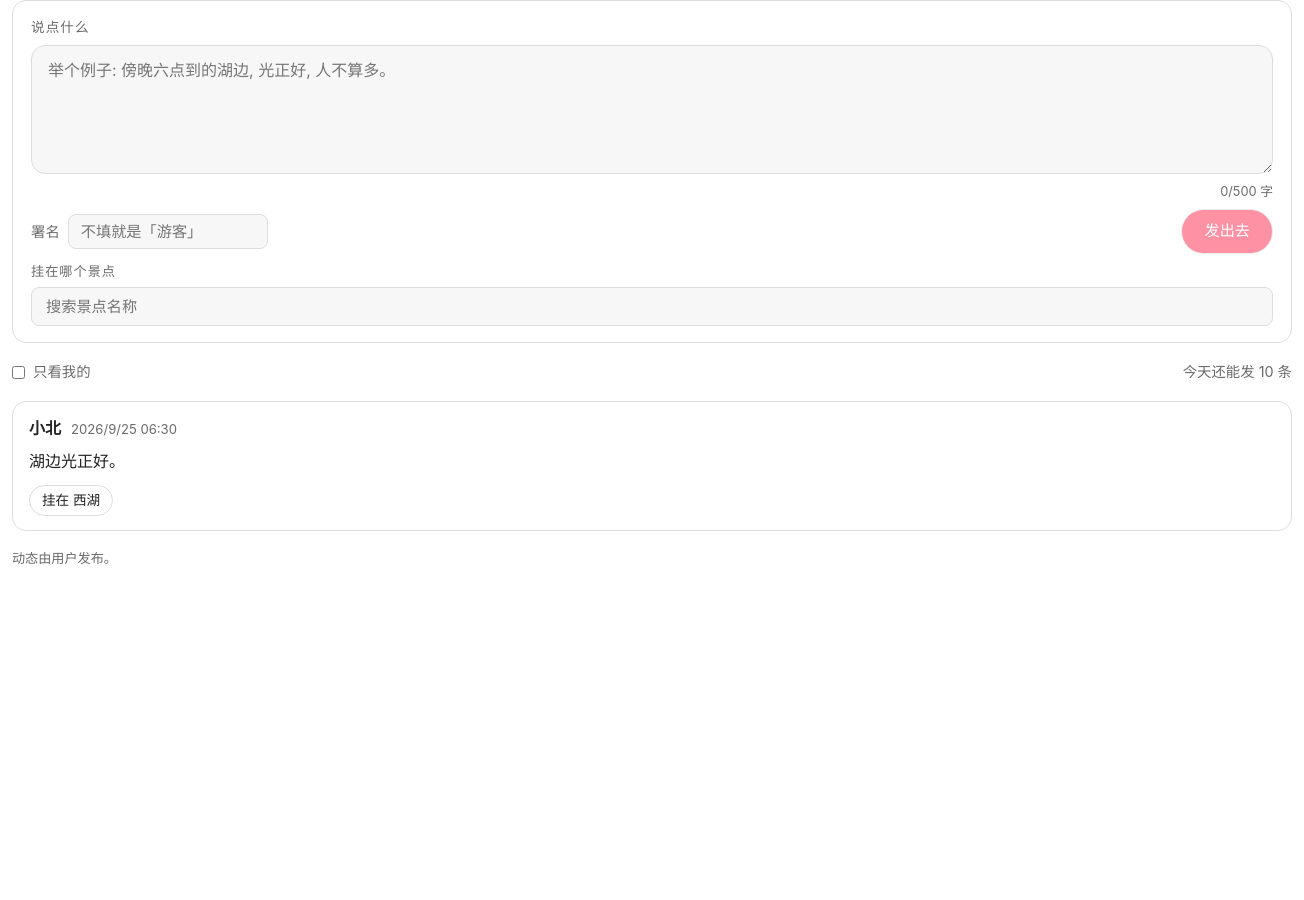
Scenario: PostsPage › 发帖报别的错时给普通错误提示
Type "再发一条" into the text box labelled "说点什么" at x=652, y=110, box [31,45,1273,174]
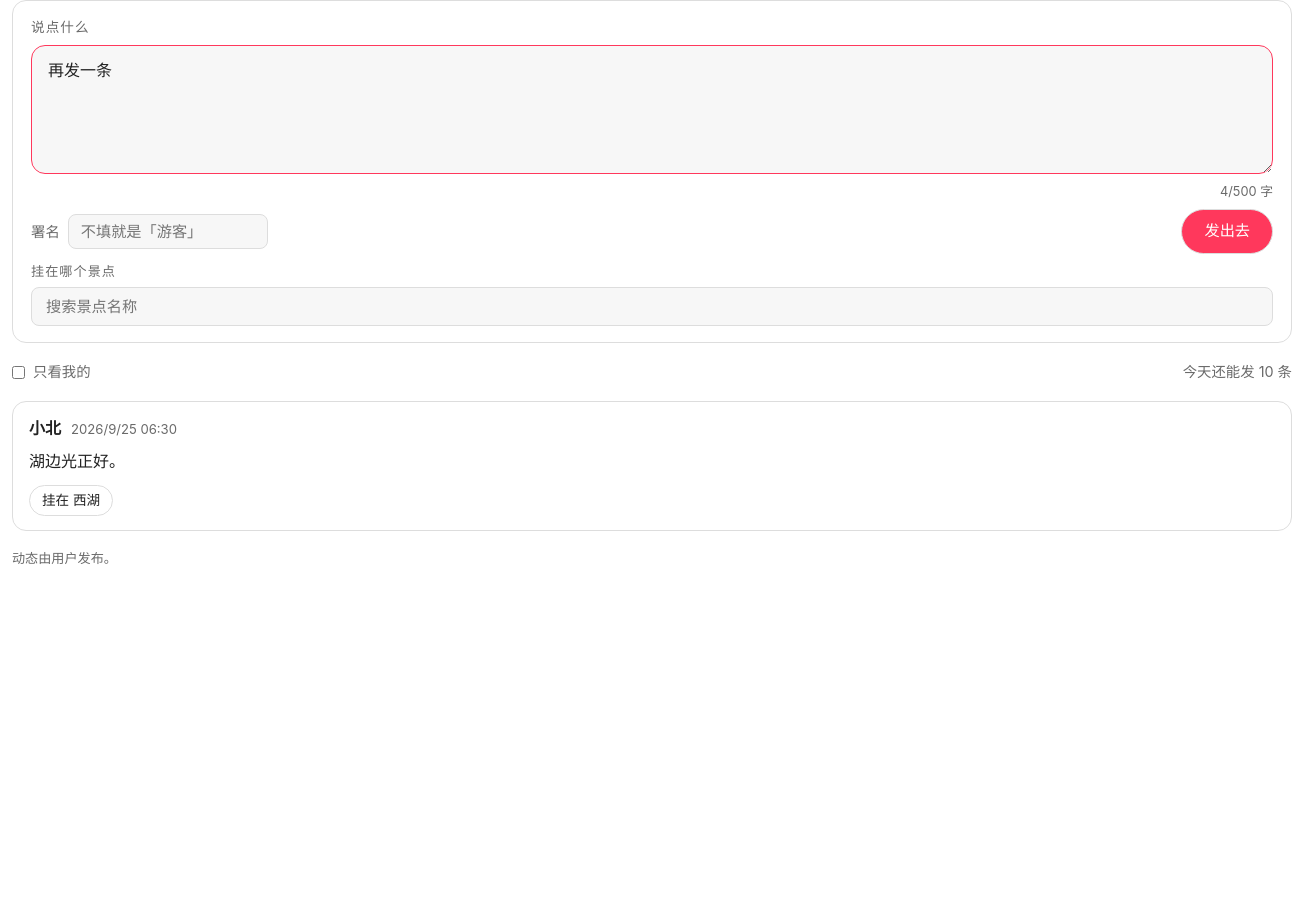
Click the button "发出去" at x=1227, y=231, box [1181,209,1273,254]
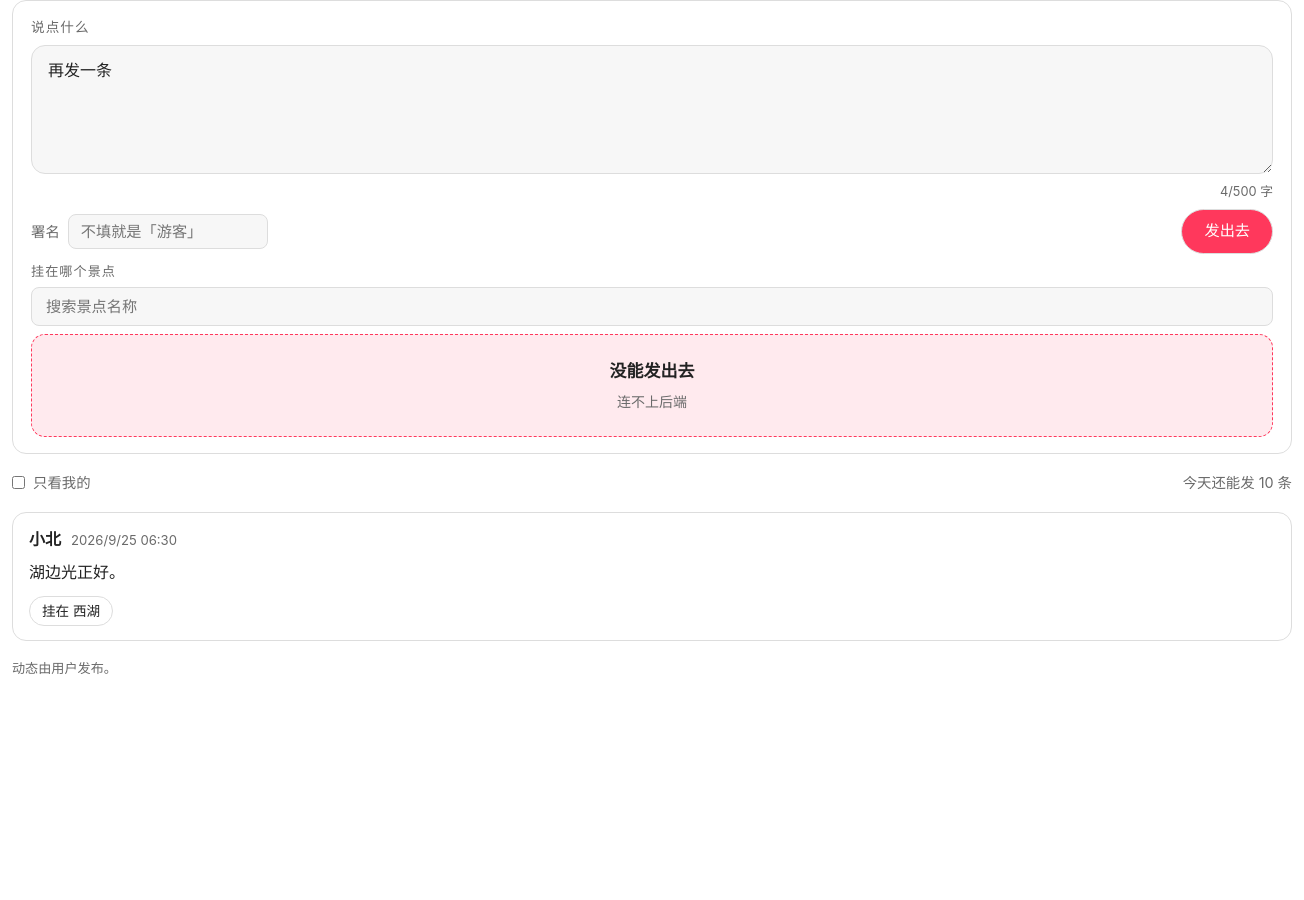
Check: the text "没能发出去" is shown, box [610,361,694,381]
Check: the text "连不上后端" is shown, box [617,393,687,410]
